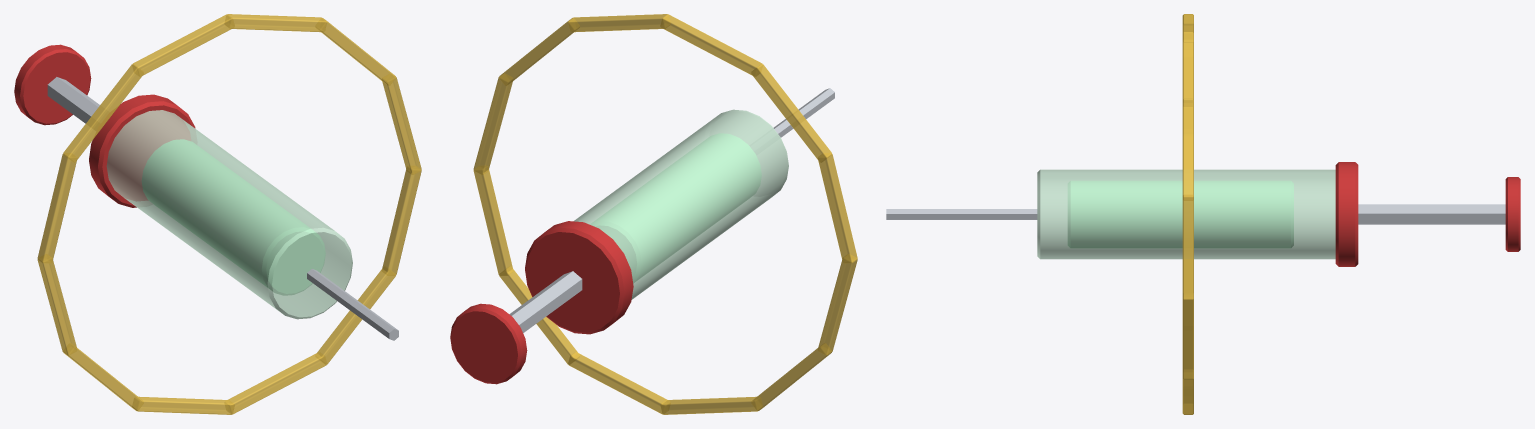
The model's file is nano_stitch.glb.
3 views of the same model, side by side, from view 1: azimuth 30°, elevation 25°; view 2: azimuth 150°, elevation 25°; view 3: azimuth 270°, elevation 25° (orthographic). The views are drawn at different scales.
Parts seen in each view (by area): view 1: barrel, serum, flange, plunger_cap, boost_ring_4, boost_ring_5, boost_ring_11, boost_ring_3, boost_ring_9, boost_ring_10, boost_ring_6, boost_ring_0 (+6 smaller); view 2: barrel, serum, flange, plunger_cap, plunger, boost_ring_4, boost_ring_5, boost_ring_11, boost_ring_3, boost_ring_9, boost_ring_6, boost_ring_0 (+6 smaller); view 3: barrel, serum, plunger, flange, needle, boost_ring_0, boost_ring_1, plunger_cap, boost_ring_11, boost_ring_2.
Part boxes in pixels (x1,y1,x2,y2): barrel: (106, 110, 352, 319); serum: (142, 139, 325, 295); flange: (89, 94, 195, 207); plunger_cap: (14, 44, 91, 125); boost_ring_4: (63, 64, 143, 162); boost_ring_5: (37, 153, 77, 263); boost_ring_11: (382, 165, 421, 275); boost_ring_3: (132, 14, 234, 76); boost_ring_9: (224, 352, 326, 414); boost_ring_10: (315, 266, 395, 364); boost_ring_6: (37, 254, 77, 355); boost_ring_0: (382, 73, 421, 174); barrel: (574, 109, 788, 299); serum: (590, 133, 761, 282); flange: (525, 221, 633, 334); plunger_cap: (450, 303, 527, 384); plunger: (509, 271, 582, 333); boost_ring_4: (751, 64, 831, 162); boost_ring_5: (818, 153, 857, 263); boost_ring_11: (473, 165, 513, 275); boost_ring_3: (660, 14, 762, 76); boost_ring_9: (568, 352, 670, 414); boost_ring_6: (818, 254, 857, 355); boost_ring_0: (473, 74, 513, 174); barrel: (1037, 169, 1335, 259); serum: (1068, 181, 1293, 247); plunger: (1358, 204, 1505, 224); flange: (1335, 162, 1358, 266); needle: (886, 209, 1037, 219); boost_ring_0: (1182, 195, 1193, 299); boost_ring_1: (1182, 99, 1193, 200); plunger_cap: (1505, 177, 1520, 251); boost_ring_11: (1182, 293, 1193, 378); boost_ring_2: (1182, 32, 1193, 106).
Size of the model in its own units: 0.5327 by 0.5327 by 0.84.
